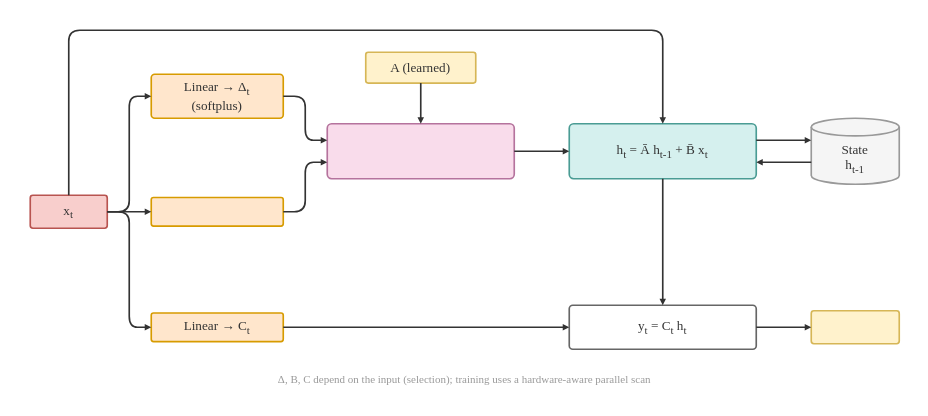
Image size: 928x416. Some labels were removed from this diagram. Each missing label, with the centre of its shape:
Discretize (ZOH) Ā = exp(Δ A), B̄ = Δ B: point (420, 150)
Linear → B t: point (217, 211)
y t: point (855, 326)
